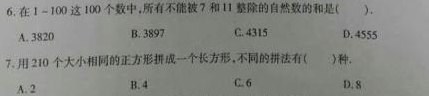text: (3, 1, 376, 18), (1, 51, 360, 68), (12, 78, 366, 93), (14, 27, 382, 40)
